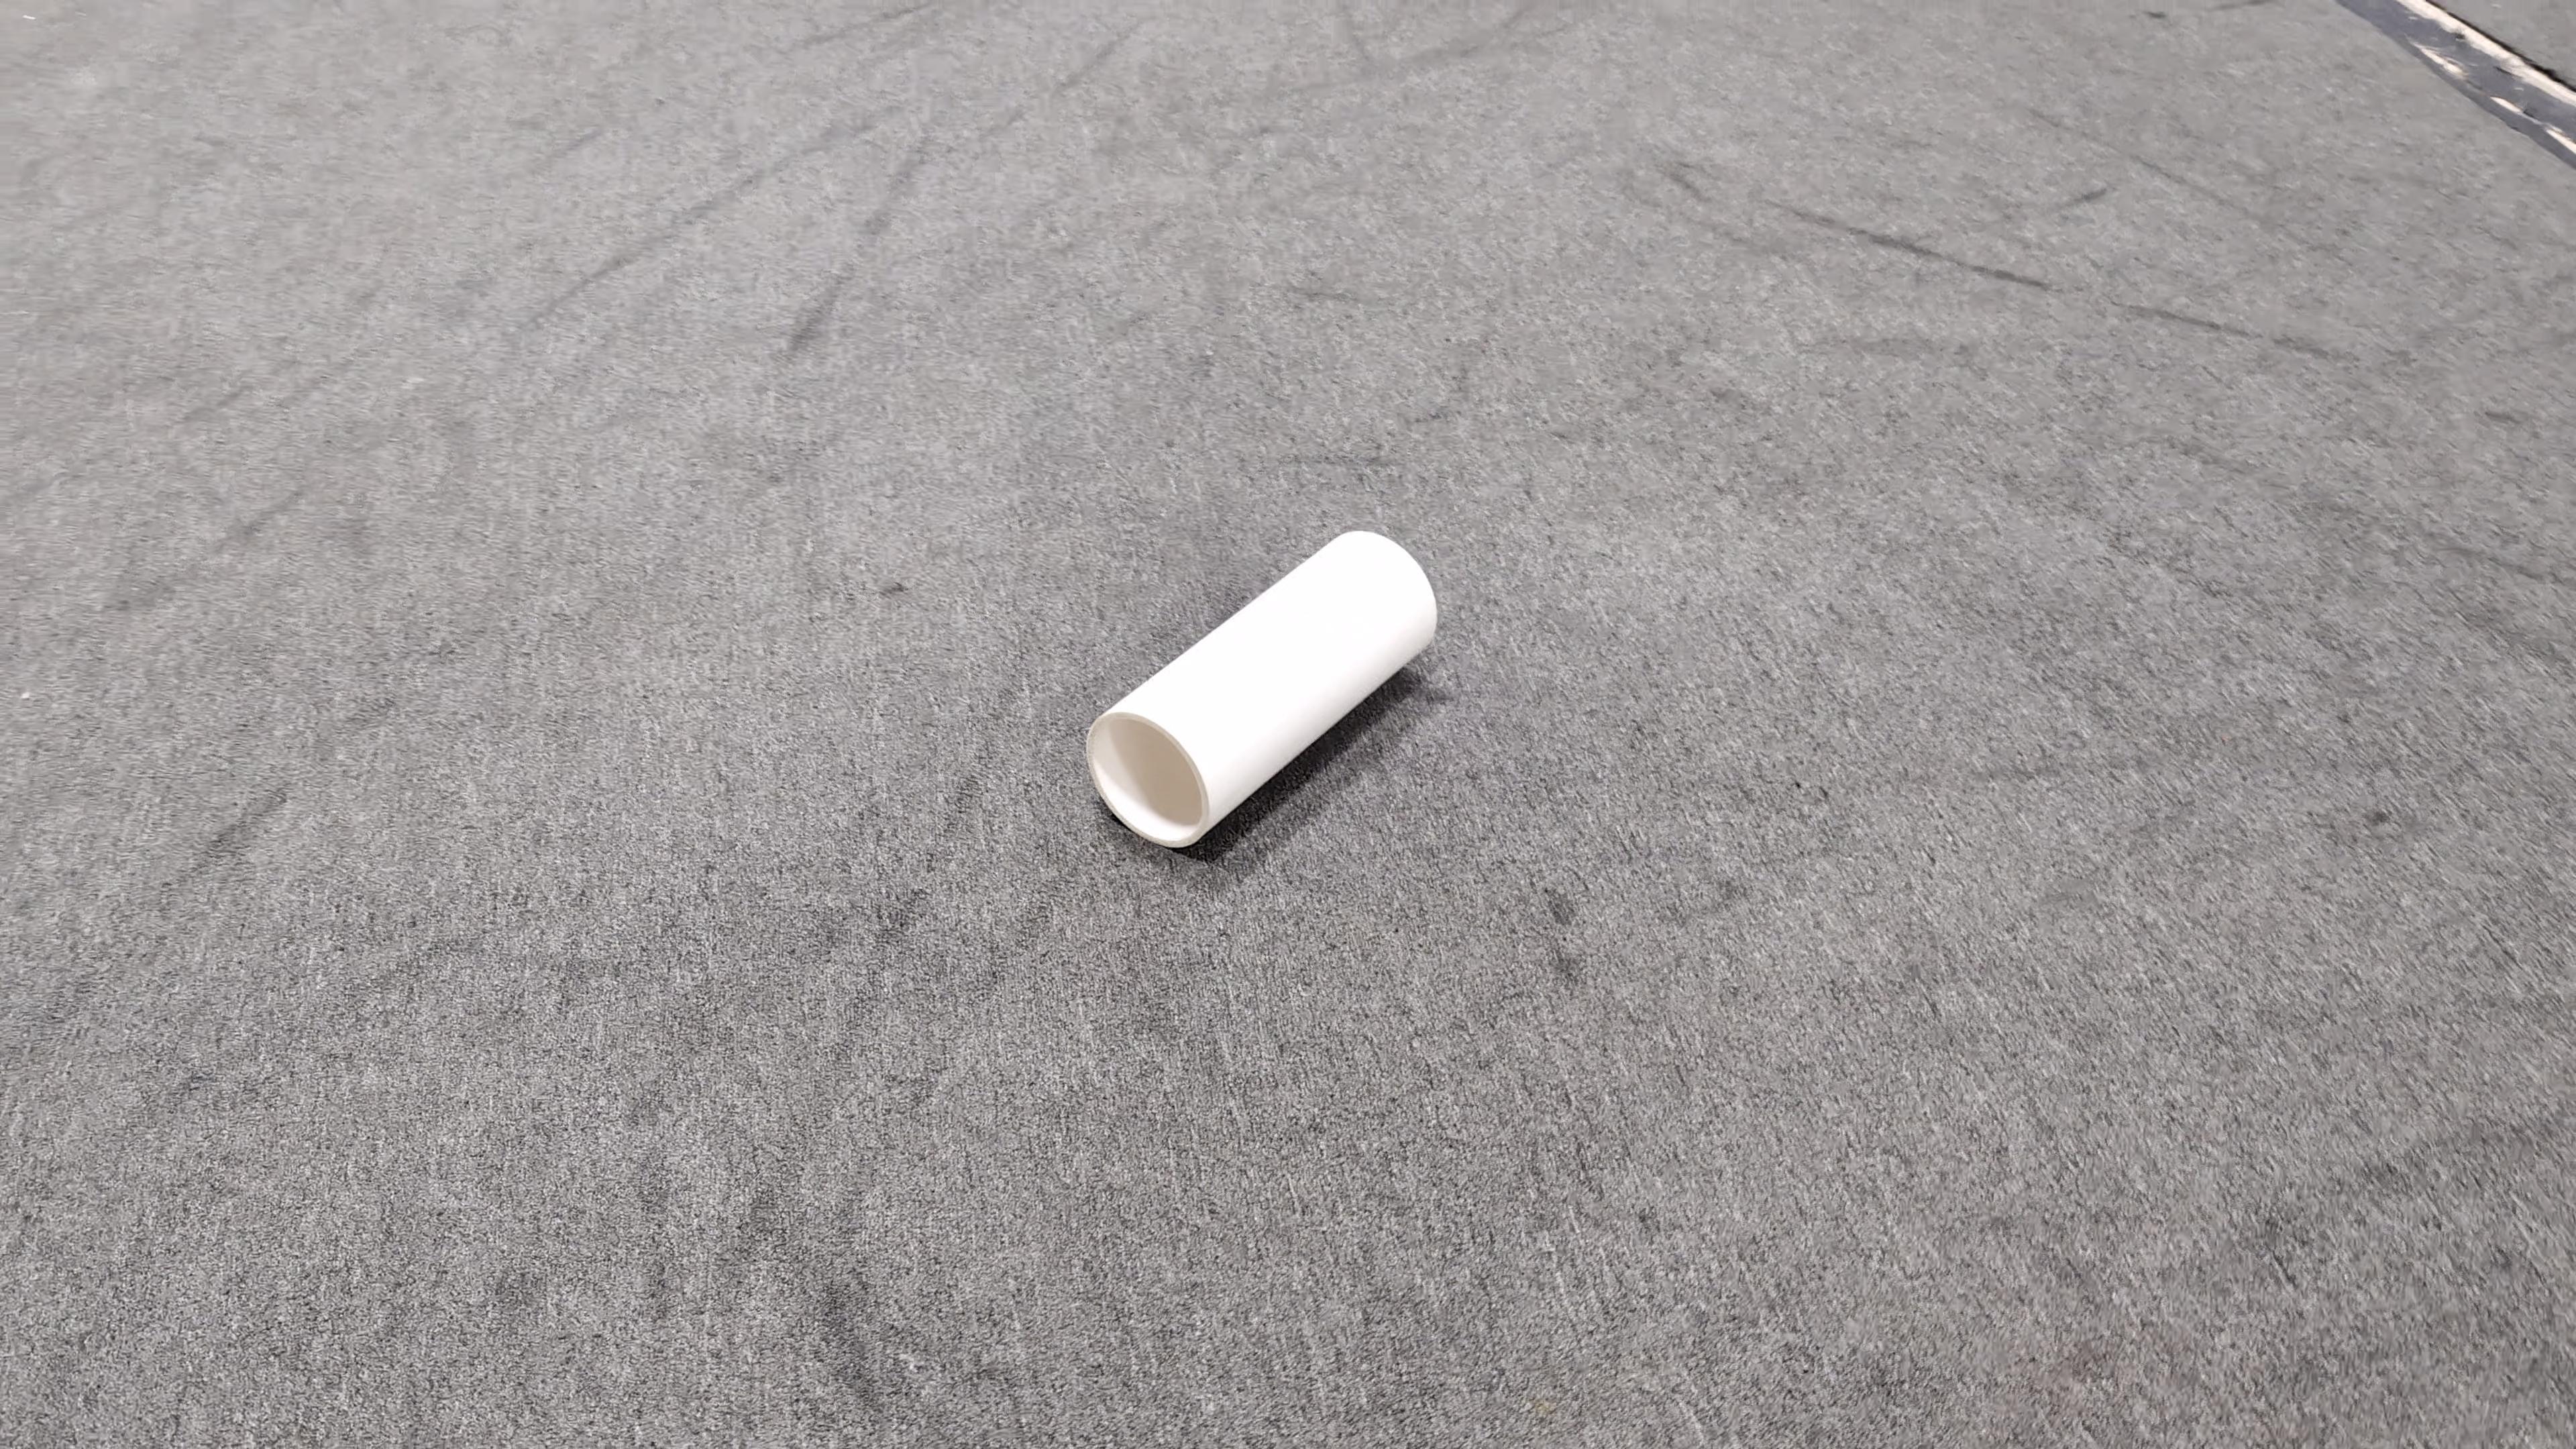coral: (1086, 531, 1438, 849)
